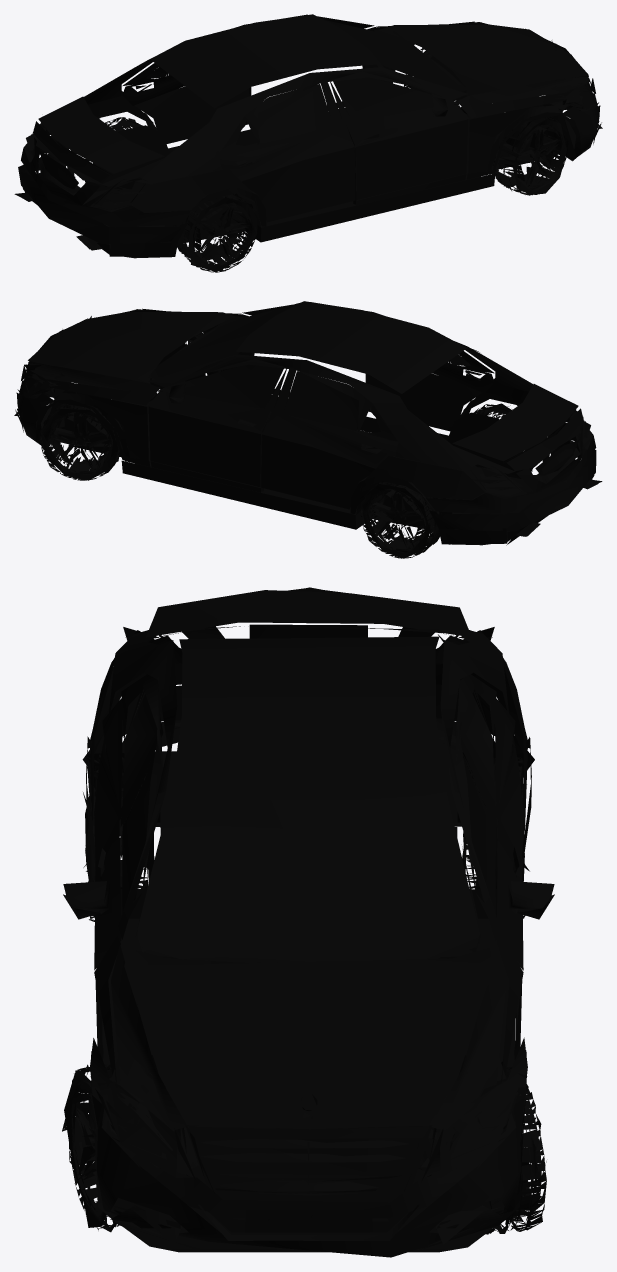
File: v_sclass_lod1.glb
3 renders of one model, top to bottom at view 1: azimuth 30°, elevation 25°; view 2: azimuth 150°, elevation 25°; view 3: azimuth 270°, elevation 25°, orthographic. The views are drawn at different scales.
Parts seen in each view (by area): view 1: v_sclass_lod1; view 2: v_sclass_lod1; view 3: v_sclass_lod1.
Part boxes in pixels (bbox=[...]): v_sclass_lod1: bbox=[14, 14, 602, 272]; v_sclass_lod1: bbox=[14, 301, 602, 558]; v_sclass_lod1: bbox=[62, 587, 554, 1257].
Bounding box in the file's own units: 5.18 × 1.5 × 2.1.
1 material, 1 textured.
